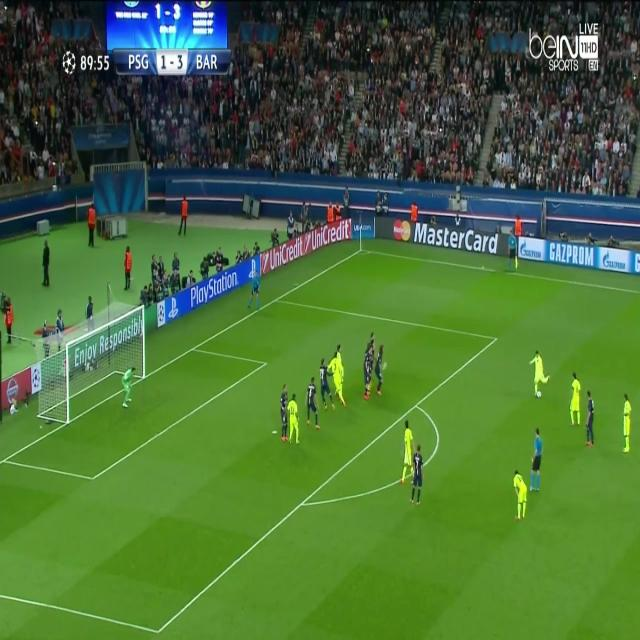Ball: (535, 388, 543, 401)
Goalkeeper: (118, 362, 138, 412)
Player: (329, 350, 352, 410), (398, 418, 416, 486), (408, 444, 426, 509), (317, 358, 338, 412), (529, 350, 551, 397), (304, 376, 322, 432), (582, 388, 598, 451), (512, 470, 528, 526), (286, 389, 301, 448), (568, 372, 583, 428), (278, 383, 290, 444), (376, 342, 388, 400), (622, 392, 633, 454), (363, 342, 374, 402)
Referee: (529, 425, 544, 495), (245, 269, 263, 316), (506, 228, 518, 277)
